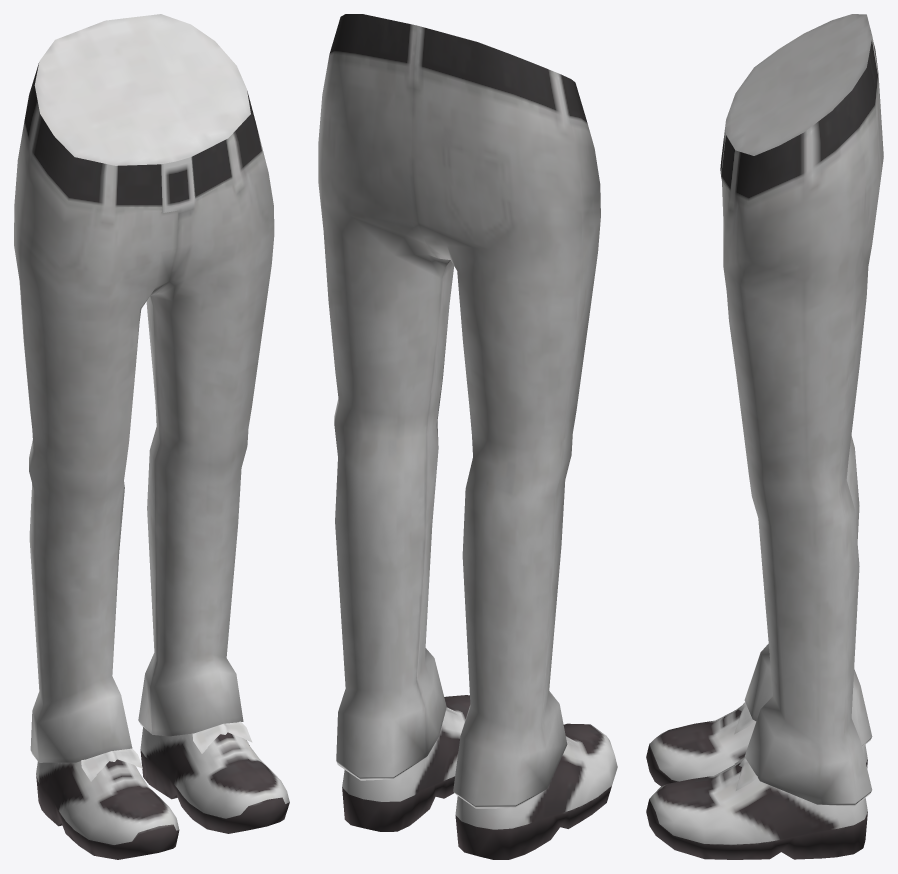
File: tr0800_00_lwb03.gltf
3 views of the same model, side by side, from view 1: azimuth 30°, elevation 25°; view 2: azimuth 150°, elevation 25°; view 3: azimuth 270°, elevation 25° (orthographic). The views are drawn at different scales.
Parts seen in each view (by area): view 1: lwb03_lowerbody_mesh_shape:lowerbody03, lwb03_shoes_mesh_shape:lowerbody03; view 2: lwb03_lowerbody_mesh_shape:lowerbody03, lwb03_shoes_mesh_shape:lowerbody03; view 3: lwb03_lowerbody_mesh_shape:lowerbody03, lwb03_shoes_mesh_shape:lowerbody03.
Boxes of the visible parts, bbox=[...] form: lwb03_lowerbody_mesh_shape:lowerbody03: bbox=[14, 14, 274, 762]; lwb03_shoes_mesh_shape:lowerbody03: bbox=[36, 721, 289, 859]; lwb03_lowerbody_mesh_shape:lowerbody03: bbox=[318, 14, 600, 808]; lwb03_shoes_mesh_shape:lowerbody03: bbox=[342, 695, 617, 859]; lwb03_lowerbody_mesh_shape:lowerbody03: bbox=[720, 14, 883, 806]; lwb03_shoes_mesh_shape:lowerbody03: bbox=[646, 702, 867, 859].
Size of what is drawn, in the model's own units: 0.3194 by 0.9768 by 0.2696.
Materials: 1 (1 with a texture image).
